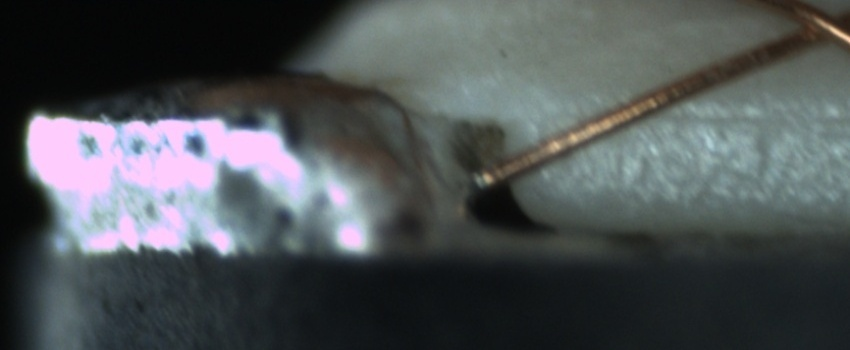CL: (770, 4, 849, 55)
DL: (560, 86, 844, 149)
